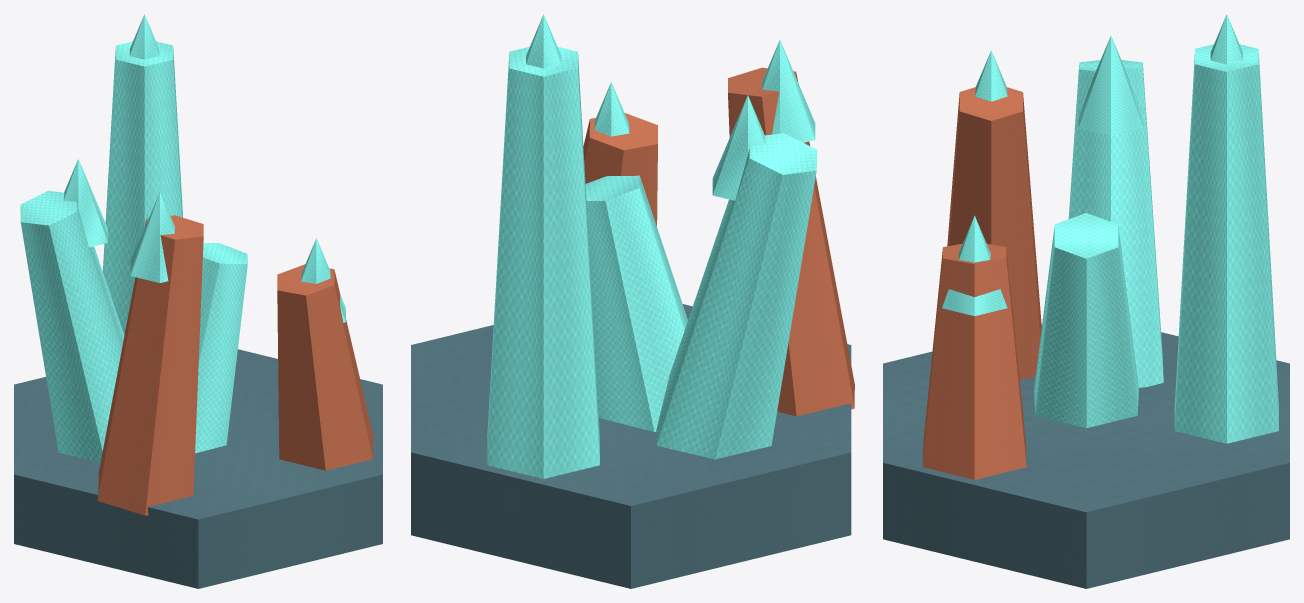
Rendered from atlas100-s042-a04.lod1.glb.
3 views of the same model, side by side, from view 1: azimuth 30°, elevation 25°; view 2: azimuth 150°, elevation 25°; view 3: azimuth 270°, elevation 25° (orthographic). The views are drawn at different scales.
Visible parts, largest first — view 1: atlas100-s042-a04:part-000, atlas100-s042-a04:part-003, atlas100-s042-a04:part-009, atlas100-s042-a04:part-007, atlas100-s042-a04:part-005, atlas100-s042-a04:part-001, atlas100-s042-a04:part-004, atlas100-s042-a04:part-010, atlas100-s042-a04:part-008, atlas100-s042-a04:part-006; view 2: atlas100-s042-a04:part-000, atlas100-s042-a04:part-005, atlas100-s042-a04:part-009, atlas100-s042-a04:part-001, atlas100-s042-a04:part-003, atlas100-s042-a04:part-007, atlas100-s042-a04:part-004, atlas100-s042-a04:part-010, atlas100-s042-a04:part-008, atlas100-s042-a04:part-006; view 3: atlas100-s042-a04:part-000, atlas100-s042-a04:part-005, atlas100-s042-a04:part-007, atlas100-s042-a04:part-001, atlas100-s042-a04:part-003, atlas100-s042-a04:part-009, atlas100-s042-a04:part-010, atlas100-s042-a04:part-008, atlas100-s042-a04:part-004, atlas100-s042-a04:part-006.
Boxes of the visible parts, x1,y1,x2,y2 form: atlas100-s042-a04:part-000: [14, 349, 382, 588]; atlas100-s042-a04:part-003: [97, 215, 203, 515]; atlas100-s042-a04:part-009: [20, 190, 124, 462]; atlas100-s042-a04:part-007: [277, 264, 373, 470]; atlas100-s042-a04:part-005: [103, 41, 182, 334]; atlas100-s042-a04:part-001: [195, 243, 247, 453]; atlas100-s042-a04:part-004: [130, 192, 174, 282]; atlas100-s042-a04:part-010: [63, 159, 107, 247]; atlas100-s042-a04:part-008: [301, 238, 345, 322]; atlas100-s042-a04:part-006: [129, 14, 159, 59]; atlas100-s042-a04:part-000: [411, 304, 851, 588]; atlas100-s042-a04:part-005: [487, 47, 599, 478]; atlas100-s042-a04:part-009: [656, 133, 817, 459]; atlas100-s042-a04:part-001: [585, 175, 687, 431]; atlas100-s042-a04:part-003: [728, 67, 854, 416]; atlas100-s042-a04:part-007: [583, 113, 657, 226]; atlas100-s042-a04:part-004: [762, 40, 815, 142]; atlas100-s042-a04:part-010: [712, 95, 765, 200]; atlas100-s042-a04:part-008: [594, 82, 629, 136]; atlas100-s042-a04:part-006: [526, 14, 561, 68]; atlas100-s042-a04:part-000: [883, 325, 1289, 588]; atlas100-s042-a04:part-005: [1174, 44, 1278, 443]; atlas100-s042-a04:part-007: [922, 243, 1026, 479]; atlas100-s042-a04:part-001: [1034, 213, 1138, 428]; atlas100-s042-a04:part-003: [947, 87, 1041, 379]; atlas100-s042-a04:part-009: [1068, 60, 1163, 387]; atlas100-s042-a04:part-010: [1078, 36, 1143, 136]; atlas100-s042-a04:part-008: [942, 215, 1007, 316]; atlas100-s042-a04:part-004: [975, 50, 1007, 101]; atlas100-s042-a04:part-006: [1210, 14, 1242, 64].
Size of the model in its own units: 1.07 by 1.21 by 0.9258.
Materials: 3 (3 with a texture image).
